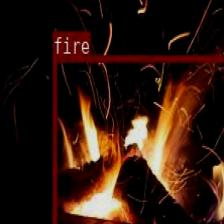fire: (51, 54, 224, 224)
